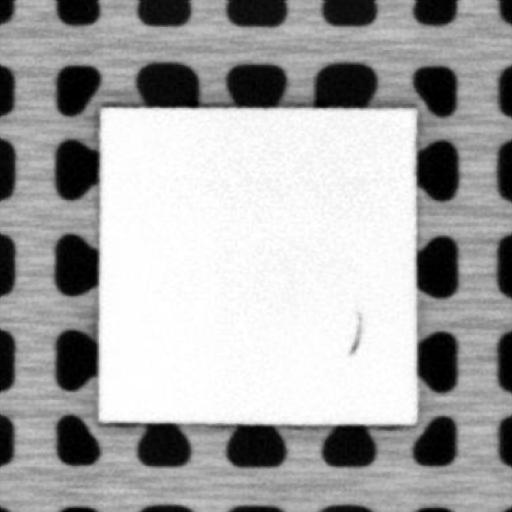DIE_INK: (344, 309, 363, 357)
